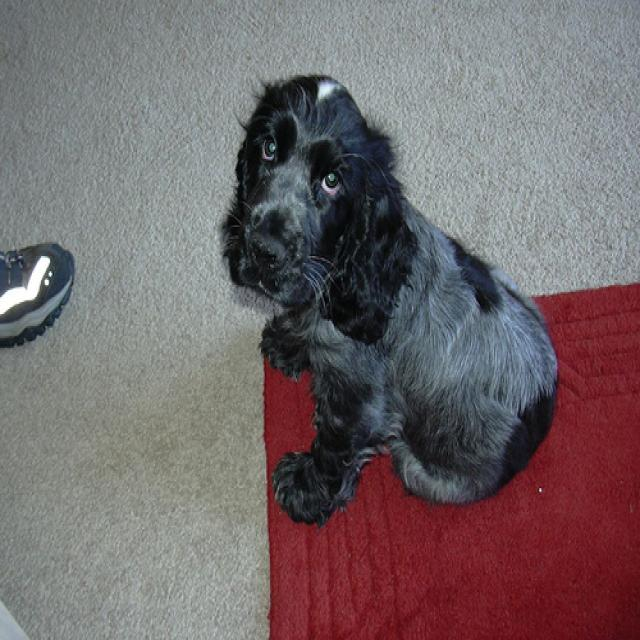dog: (221, 75, 416, 338)
